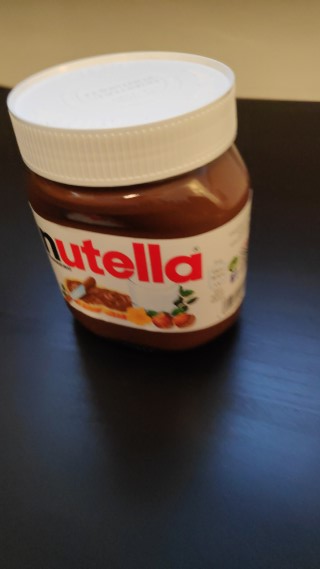nutella: (4, 48, 255, 356)
